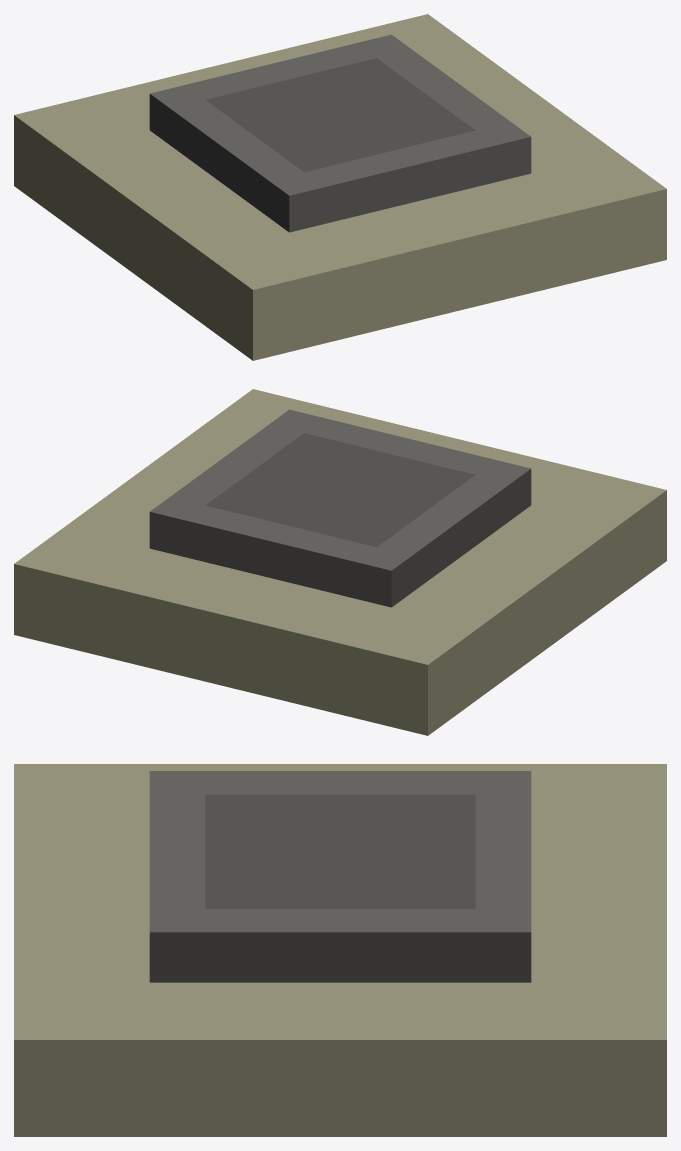
Rendered from SM_Prop_Fuelport_01.fbx.
The picture shows the model from 3 angles, top to bottom: view 1: azimuth 30°, elevation 25°; view 2: azimuth 150°, elevation 25°; view 3: azimuth 270°, elevation 25°; orthographic projection. The views are drawn at different scales.
Visible parts, largest first — view 1: SM_Prop_Fuelport_01; view 2: SM_Prop_Fuelport_01; view 3: SM_Prop_Fuelport_01.
Boxes of the visible parts, x1,y1,x2,y2 form: SM_Prop_Fuelport_01: [14, 14, 666, 360]; SM_Prop_Fuelport_01: [14, 389, 666, 735]; SM_Prop_Fuelport_01: [14, 764, 666, 1136].
Size of the model in its own units: 1.74 by 0.4319 by 1.74.
